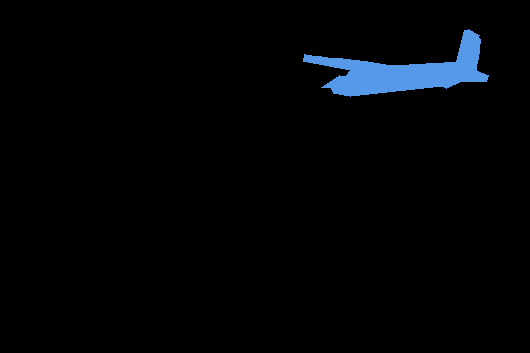Airplane: (303, 29, 489, 97)
